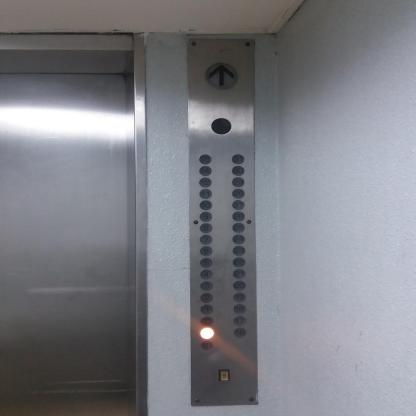1: (200, 304, 213, 314)
10: (200, 200, 212, 210)
11: (199, 188, 212, 199)
12: (199, 177, 211, 187)
14: (198, 166, 212, 176)
15: (198, 154, 212, 165)
16: (233, 328, 246, 338)
17: (233, 315, 246, 326)
18: (233, 304, 246, 314)
19: (233, 292, 246, 303)
2: (200, 293, 213, 303)
20: (232, 280, 245, 291)
21: (233, 269, 246, 279)
22: (233, 257, 245, 267)
23: (233, 246, 245, 256)
24: (232, 234, 245, 244)
25: (232, 223, 245, 233)
26: (232, 211, 245, 221)
27: (232, 200, 244, 210)
28: (232, 188, 245, 198)
29: (232, 177, 244, 187)
3: (200, 281, 214, 291)
30: (232, 165, 244, 176)
31: (232, 154, 244, 164)
4: (200, 269, 212, 280)
5: (200, 258, 213, 268)
6: (200, 246, 212, 256)
7: (200, 234, 212, 244)
8: (200, 223, 212, 234)
9: (199, 211, 212, 222)
B1: (201, 340, 213, 350)
G: (200, 316, 213, 326)
down: (218, 368, 230, 382)
empty: (209, 115, 233, 136), (200, 327, 214, 339)
up: (206, 61, 238, 89)
